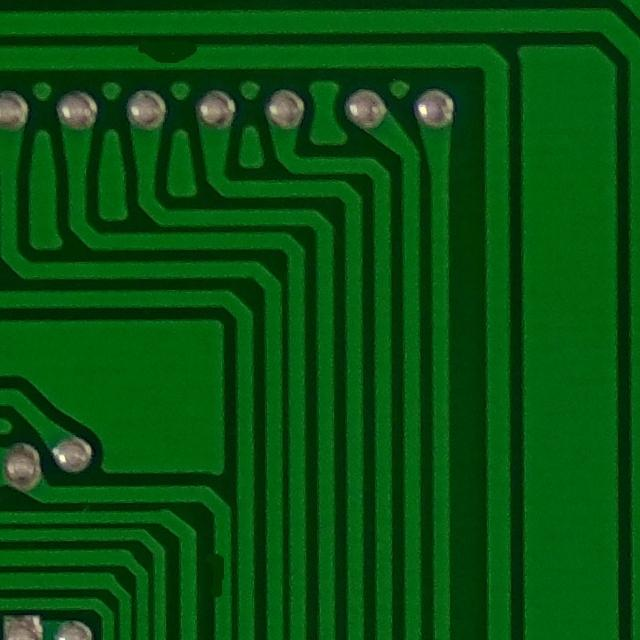mouse_bite: (127, 36, 207, 73), (204, 540, 236, 615)
